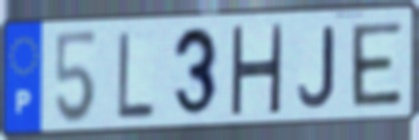3: (171, 23, 222, 121)
5: (53, 26, 99, 127)
E: (348, 19, 404, 110)
H: (228, 23, 286, 116)
J: (296, 23, 338, 110)
L: (115, 28, 157, 120)
